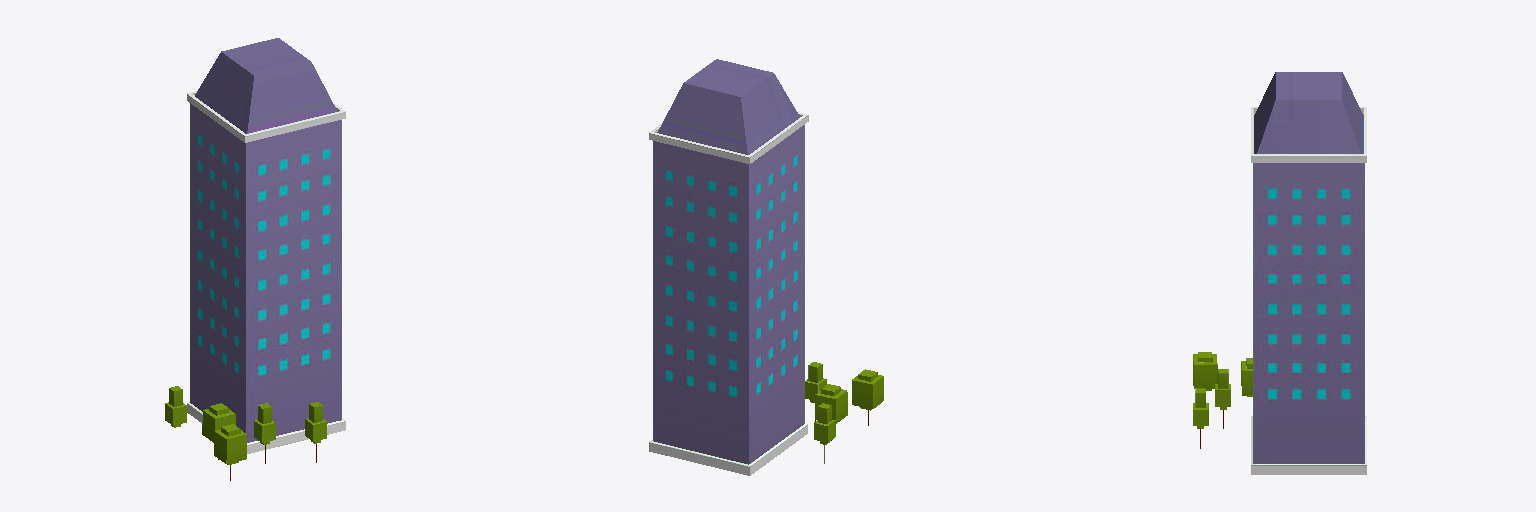
3 renders of one model, left to right at view 1: azimuth 30°, elevation 25°; view 2: azimuth 150°, elevation 25°; view 3: azimuth 270°, elevation 25°, orthographic.
Parts seen in each view (by area): view 1: business_tower_1lvl_Mesh.101, Tree_3_499_2.025_Mesh.296, Tree_3_499_2.024_Mesh.295, Tree_2_3_61.037_Mesh.297, Tree_2_3_61.038_Mesh.298, Tree_2_3_61.036_Mesh.294; view 2: business_tower_1lvl_Mesh.101, Tree_3_499_2.025_Mesh.296, Tree_3_499_2.024_Mesh.295, Tree_2_3_61.036_Mesh.294, Tree_2_3_61.037_Mesh.297; view 3: business_tower_1lvl_Mesh.101, Tree_3_499_2.025_Mesh.296, Tree_2_3_61.038_Mesh.298, Tree_2_3_61.037_Mesh.297.
Boxes of the visible parts, box(x1,y1,x2,y2) form: business_tower_1lvl_Mesh.101: box(187, 38, 345, 453); Tree_3_499_2.025_Mesh.296: box(214, 424, 246, 480); Tree_3_499_2.024_Mesh.295: box(202, 403, 235, 459); Tree_2_3_61.037_Mesh.297: box(254, 403, 275, 463); Tree_2_3_61.038_Mesh.298: box(305, 402, 326, 462); Tree_2_3_61.036_Mesh.294: box(165, 386, 186, 427); business_tower_1lvl_Mesh.101: box(649, 59, 808, 475); Tree_3_499_2.025_Mesh.296: box(852, 369, 883, 425); Tree_3_499_2.024_Mesh.295: box(815, 384, 847, 440); Tree_2_3_61.036_Mesh.294: box(814, 403, 835, 463); Tree_2_3_61.037_Mesh.297: box(805, 362, 826, 421); business_tower_1lvl_Mesh.101: box(1251, 72, 1366, 474); Tree_3_499_2.025_Mesh.296: box(1193, 352, 1217, 390); Tree_2_3_61.038_Mesh.298: box(1193, 388, 1208, 448); Tree_2_3_61.037_Mesh.297: box(1215, 369, 1230, 428).
Bounding box in the file's own units: 1.71 × 3.94 × 1.71.
Materials: 3 (3 with a texture image).